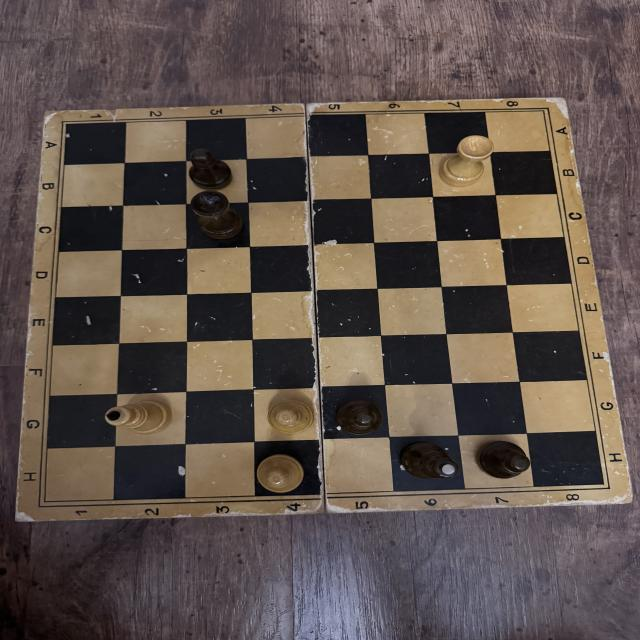black-king: (397, 440, 460, 480)
black-pawn: (475, 438, 533, 479), (186, 148, 235, 190), (335, 398, 386, 436)
black-rook: (186, 191, 248, 241)
white-king: (103, 400, 173, 434)
white-pawn: (254, 455, 305, 493), (266, 399, 316, 435)
white-rook: (438, 135, 493, 189)
